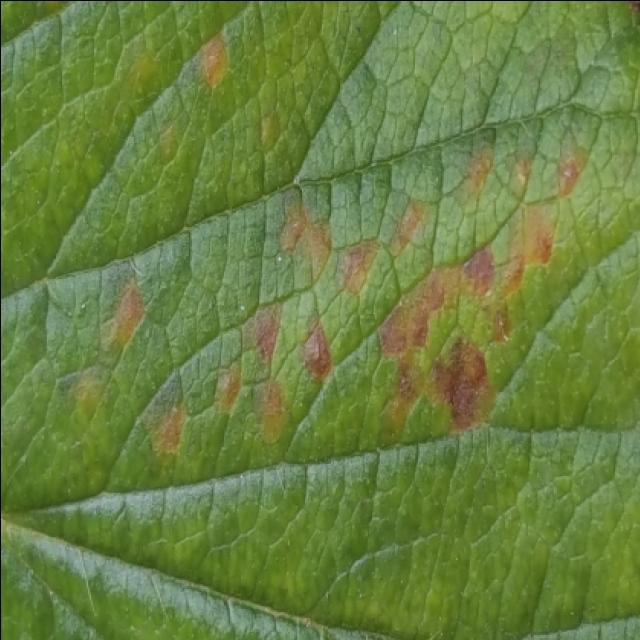Angular Leafspot: (65, 24, 610, 463)
